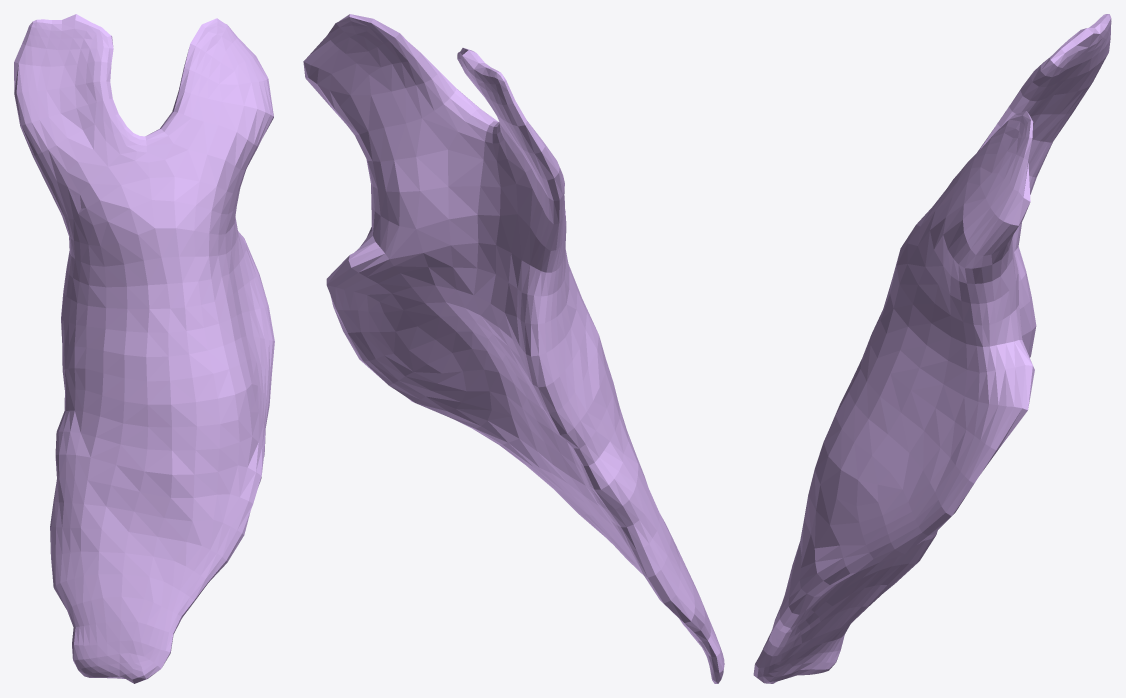
The model's file is organ-thymus.glb.
The picture shows the model from 3 angles, left to right: view 1: azimuth 30°, elevation 25°; view 2: azimuth 150°, elevation 25°; view 3: azimuth 270°, elevation 25°; orthographic projection. The views are drawn at different scales.
Parts seen in each view (by area): view 1: thymus-lobe; view 2: thymus-lobe; view 3: thymus-lobe.
Boxes of the visible parts, <box> form: thymus-lobe: <box>14,14,274,683</box>; thymus-lobe: <box>303,14,724,683</box>; thymus-lobe: <box>753,14,1111,683</box>.
Size of the model in its own units: 0.037 by 0.0757 by 0.0351.
